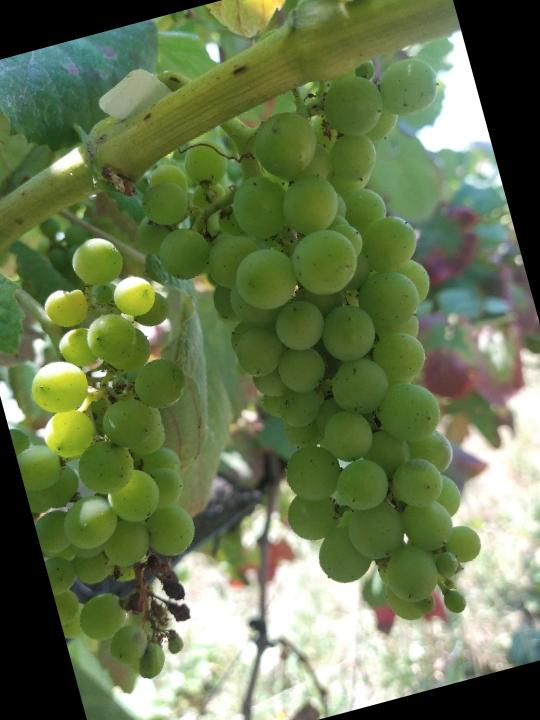grape: (107, 42, 540, 679), (0, 225, 260, 698)
